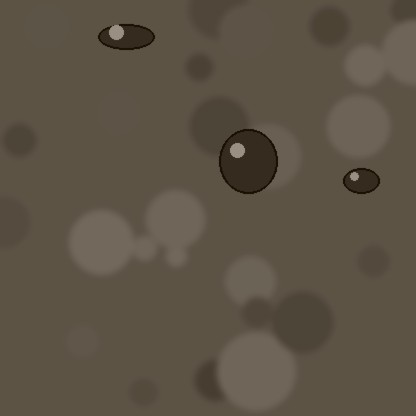gota: (219, 131, 277, 199), (98, 25, 154, 51), (343, 169, 379, 195)
